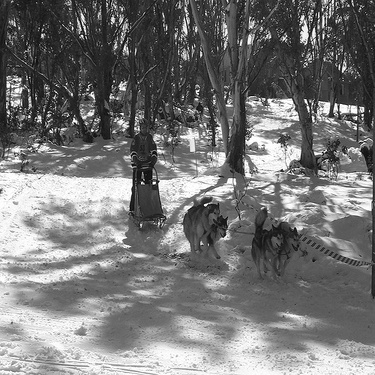dog: (237, 202, 289, 293), (162, 189, 224, 254), (266, 208, 305, 284), (191, 210, 235, 273)
